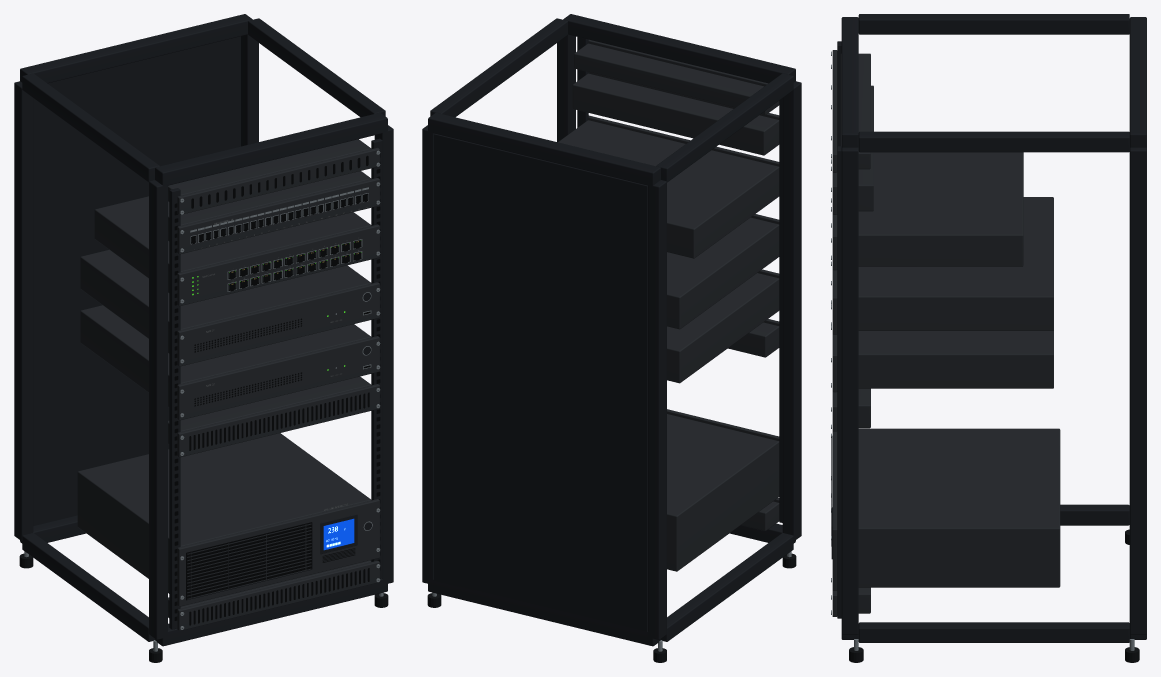
The model's file is rack_cftv.glb.
3 views of the same model, side by side, from view 1: azimuth 30°, elevation 25°; view 2: azimuth 150°, elevation 25°; view 3: azimuth 270°, elevation 25° (orthographic). The views are drawn at different scales.
Visible parts, largest first — view 1: Fundo interno escuro, Nobreak - chassi, Coluna estrutural.001, Coluna estrutural, Gravador NVR 01 - chassi, Gravador NVR 01 - painel frontal, Gravador NVR 02 - painel frontal, Gravador NVR 02 - chassi, Switch PoE - chassi, Coluna estrutural.002, Area preta da grade do nobreak, Switch PoE - painel frontal (+20 smaller); view 2: Fundo interno escuro, Nobreak - chassi, Switch PoE - chassi, Coluna estrutural, Coluna estrutural.001, Patch panel 24 portas - chassi, Gravador NVR 01 - chassi, Gravador NVR 02 - chassi, Coluna estrutural.003, Painel de ventilacao superior - chassi, Travessa horizontal.003, Travessa horizontal.002 (+12 smaller); view 3: Nobreak - chassi, Switch PoE - chassi, Gravador NVR 01 - chassi, Gravador NVR 02 - chassi, Coluna estrutural.002, Coluna estrutural.003, Travessa lateral.003, Travessa lateral.002, Travessa lateral.001, Trilho de montagem frontal.001, Travessa horizontal.002, Travessa horizontal.003 (+6 smaller).
Part boxes in pixels (left/top/right/bottom): Fundo interno escuro: left=33, top=36, right=240, bottom=525; Nobreak - chassi: left=77, top=433, right=371, bottom=593; Coluna estrutural.001: left=14, top=81, right=33, bottom=540; Coluna estrutural: left=149, top=180, right=167, bottom=639; Gravador NVR 01 - chassi: left=80, top=249, right=371, bottom=353; Gravador NVR 01 - painel frontal: left=177, top=282, right=379, bottom=366; Gravador NVR 02 - painel frontal: left=177, top=336, right=379, bottom=420; Gravador NVR 02 - chassi: left=80, top=305, right=371, bottom=407; Switch PoE - chassi: left=94, top=196, right=371, bottom=292; Coluna estrutural.002: left=374, top=125, right=393, bottom=584; Area preta da grade do nobreak: left=186, top=522, right=312, bottom=600; Switch PoE - painel frontal: left=177, top=224, right=379, bottom=306; Fundo interno escuro: left=434, top=133, right=647, bottom=631; Nobreak - chassi: left=667, top=414, right=779, bottom=571; Switch PoE - chassi: left=558, top=120, right=779, bottom=258; Coluna estrutural: left=782, top=81, right=801, bottom=540; Coluna estrutural.001: left=648, top=180, right=666, bottom=639; Patch panel 24 portas - chassi: left=572, top=73, right=779, bottom=155; Gravador NVR 01 - chassi: left=667, top=217, right=779, bottom=329; Gravador NVR 02 - chassi: left=667, top=273, right=779, bottom=383; Coluna estrutural.003: left=422, top=125, right=433, bottom=583; Painel de ventilacao superior - chassi: left=574, top=43, right=779, bottom=114; Travessa horizontal.003: left=428, top=112, right=660, bottom=186; Travessa horizontal.002: left=563, top=14, right=795, bottom=83; Nobreak - chassi: left=858, top=428, right=1060, bottom=587; Switch PoE - chassi: left=858, top=152, right=1023, bottom=266; Gravador NVR 01 - chassi: left=858, top=197, right=1053, bottom=330; Gravador NVR 02 - chassi: left=858, top=331, right=1053, bottom=388; Coluna estrutural.002: left=841, top=147, right=858, bottom=634; Coluna estrutural.003: left=1129, top=147, right=1146, bottom=634; Travessa lateral.003: left=858, top=131, right=1129, bottom=152; Travessa lateral.002: left=858, top=14, right=1129, bottom=34; Travessa lateral.001: left=858, top=622, right=1129, bottom=642; Trilho de montagem frontal.001: left=837, top=146, right=841, bottom=618; Travessa horizontal.002: left=841, top=17, right=858, bottom=147; Travessa horizontal.003: left=1129, top=17, right=1146, bottom=147.
Bounding box in the file's own units: 0.48 × 0.95 × 0.519.
10 materials, 2 textured.
